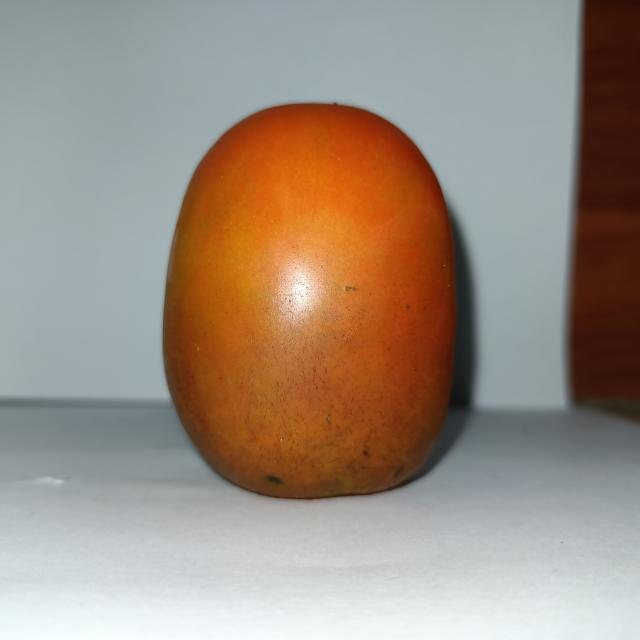Red: (160, 100, 458, 499)
